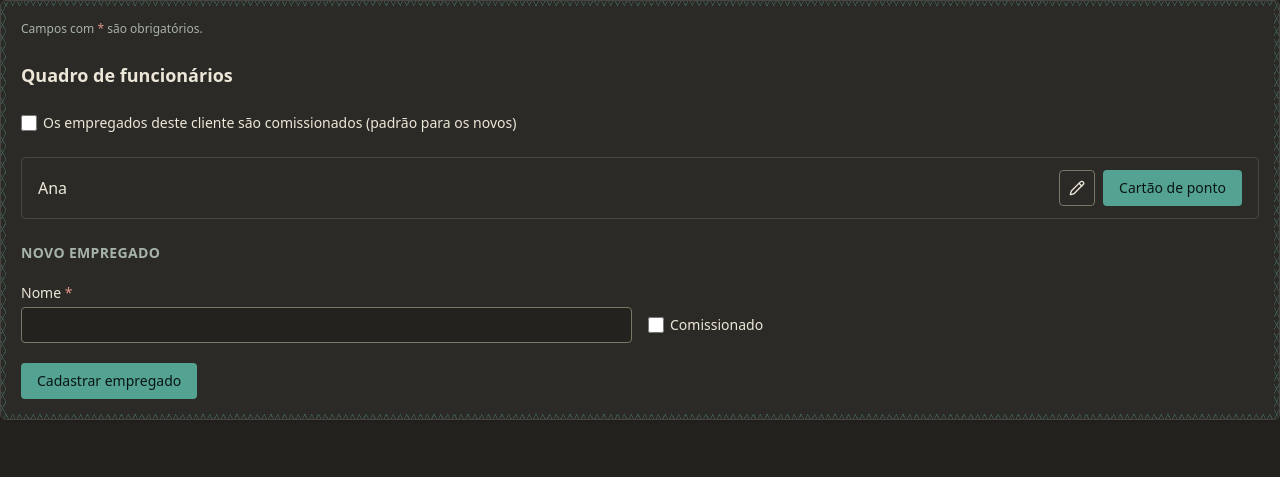
Test: QuadroDeFuncionariosContainer › recusa do servidor no cadastro preserva o nome digitado
In the field named "nome": (326, 325) [21,307,632,343], type "Caio"
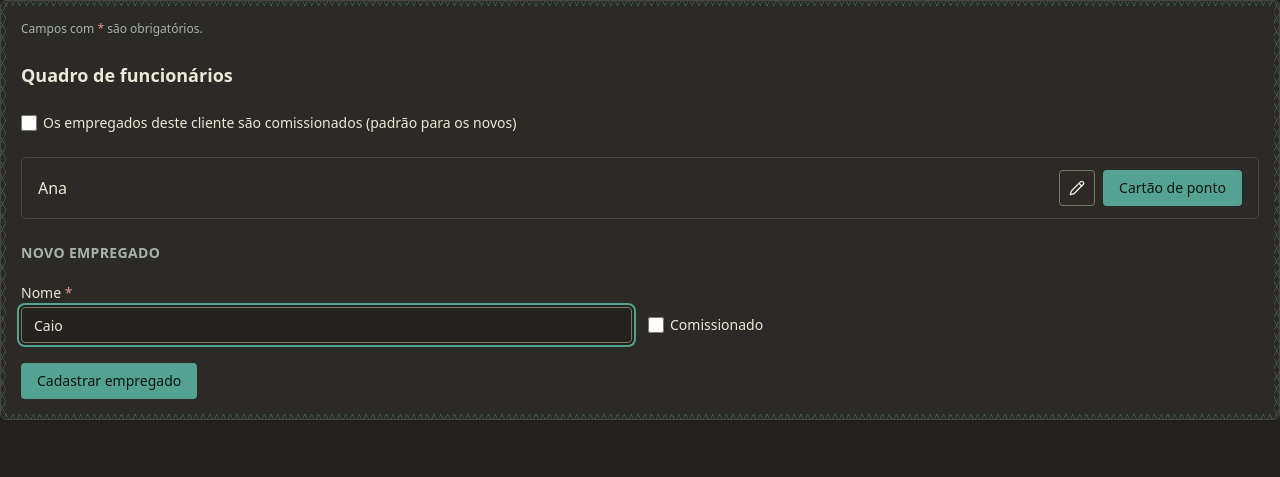
Click the button "Cadastrar empregado": (109, 381) [21,363,197,399]
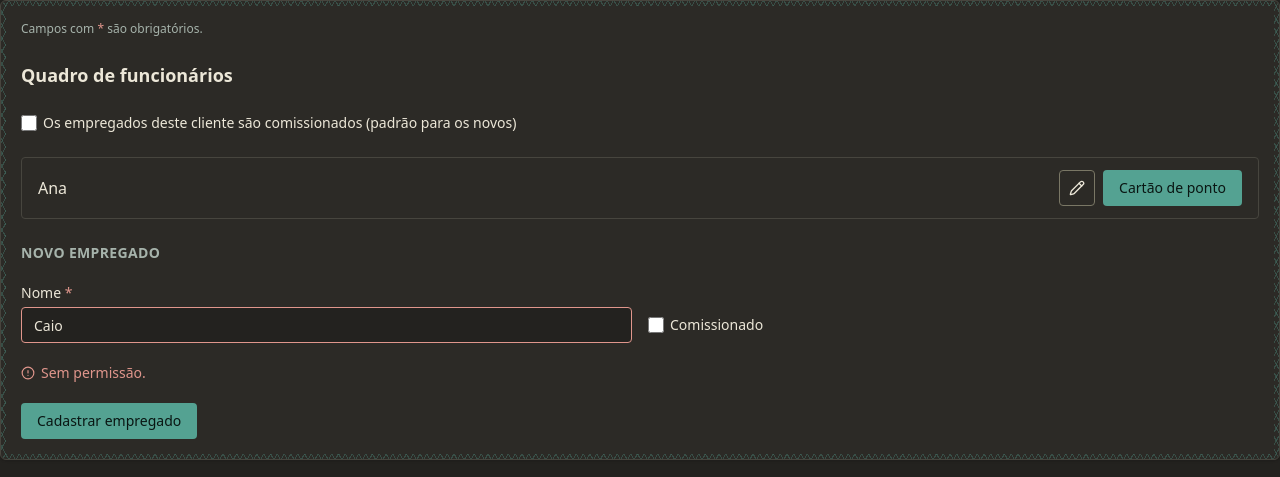
Expected: the message reads "Sem permissão.", [41,363,146,382]
